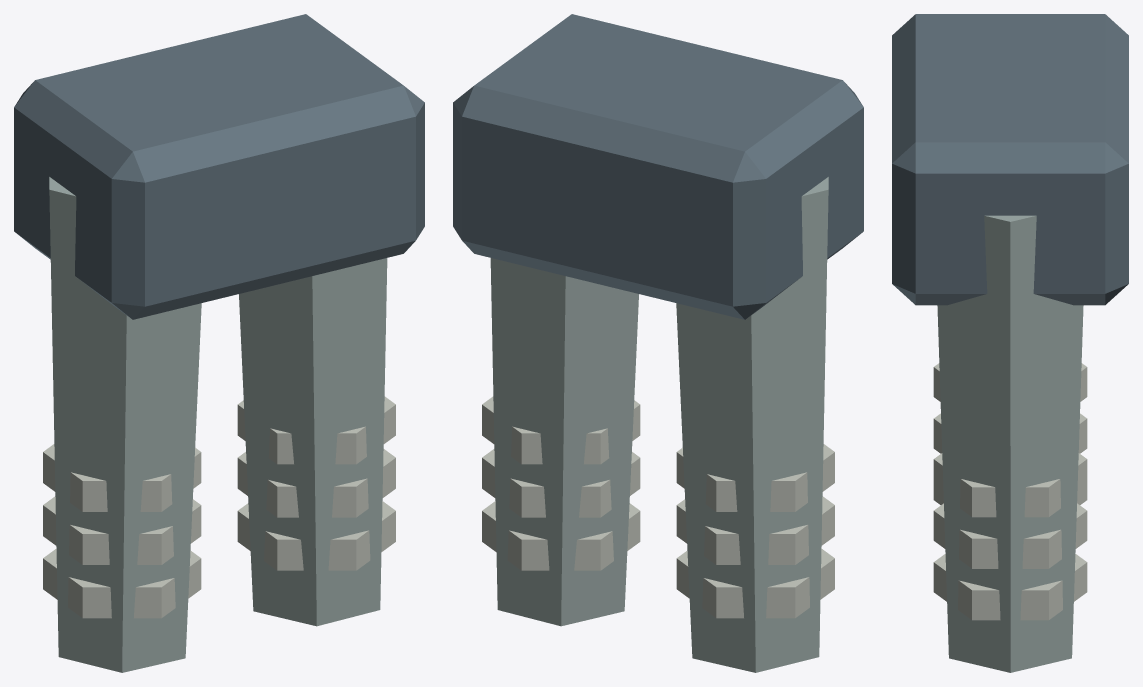
Rendered from SM_NPC_Legs_02_Wrapped.glb.
3 renders of one model, left to right at view 1: azimuth 30°, elevation 25°; view 2: azimuth 150°, elevation 25°; view 3: azimuth 270°, elevation 25°, orthographic. The views are drawn at different scales.
Parts seen in each view (by area): view 1: SM_NPC_Legs_02_Wrapped; view 2: SM_NPC_Legs_02_Wrapped; view 3: SM_NPC_Legs_02_Wrapped.
Part boxes in pixels (x1=…): SM_NPC_Legs_02_Wrapped: x1=14, y1=14, x2=424, y2=672; SM_NPC_Legs_02_Wrapped: x1=453, y1=14, x2=863, y2=672; SM_NPC_Legs_02_Wrapped: x1=892, y1=14, x2=1128, y2=672.
Size of the model in its own units: 0.402 by 0.606 by 0.25.
